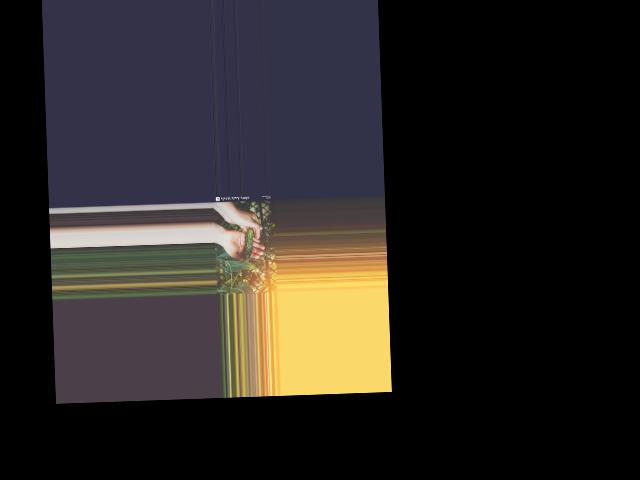cucumber: (242, 228, 254, 259)
